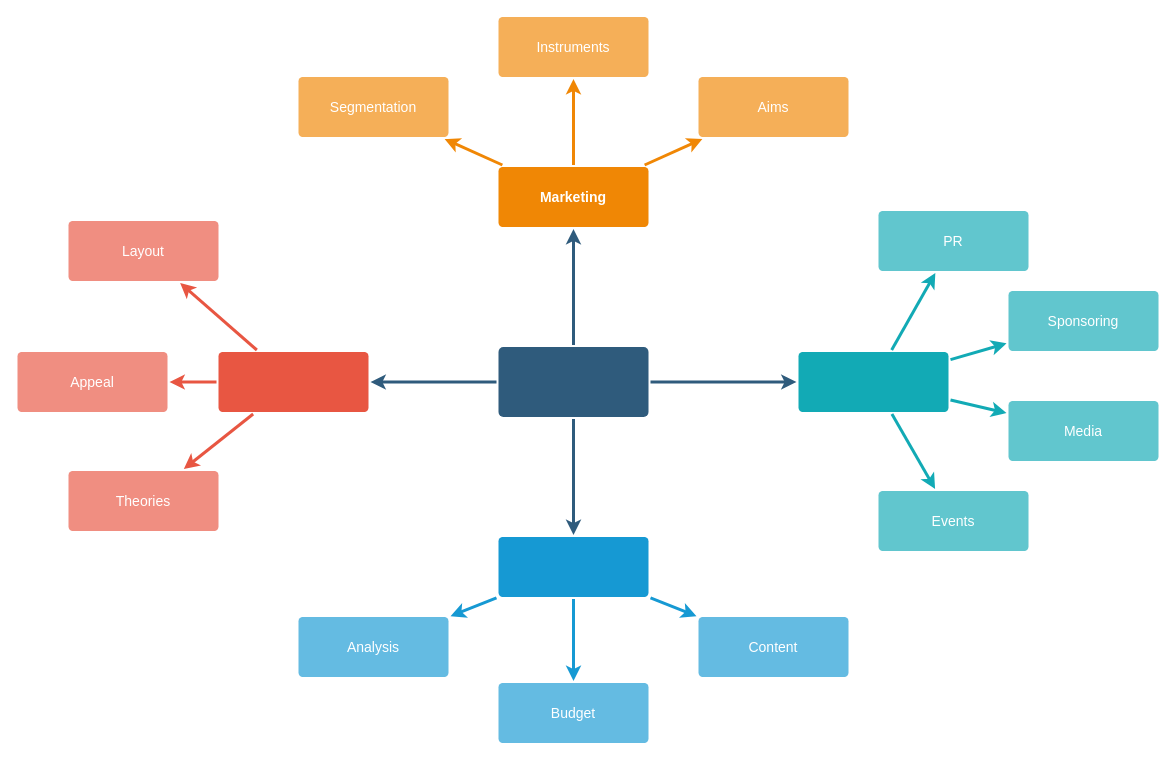
This 1175x760 diagram has some shape labels left out. Each missing label, with the centre of its shape:
"cissp_domain_01" goes at point (573, 381).
"Communication" goes at point (873, 382).
"Embassy" goes at point (293, 382).
"Organization" goes at point (573, 566).
